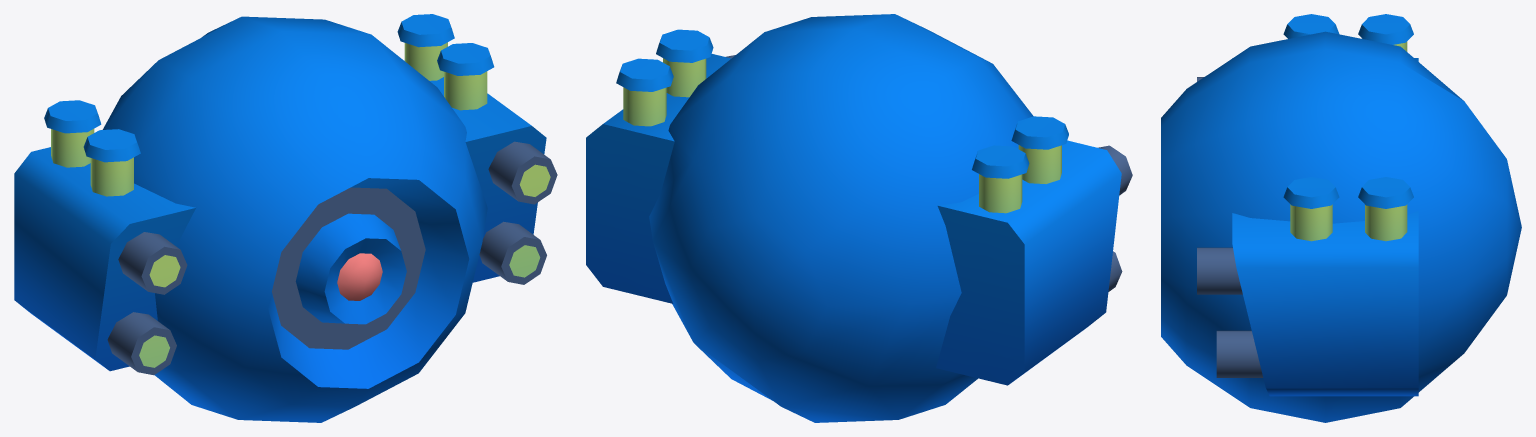
File: Drone_1.fbx
The picture shows the model from 3 angles, left to right: view 1: azimuth 30°, elevation 25°; view 2: azimuth 150°, elevation 25°; view 3: azimuth 270°, elevation 25°; orthographic projection. The views are drawn at different scales.
Parts seen in each view (by area): view 1: Drone_1; view 2: Drone_1; view 3: Drone_1.
Part boxes in pixels (x1,y1,x2,y2): Drone_1: [14, 14, 557, 422]; Drone_1: [586, 14, 1132, 422]; Drone_1: [1161, 14, 1521, 422].
Bounding box in the file's own units: 91.01 × 69.09 × 75.21.
